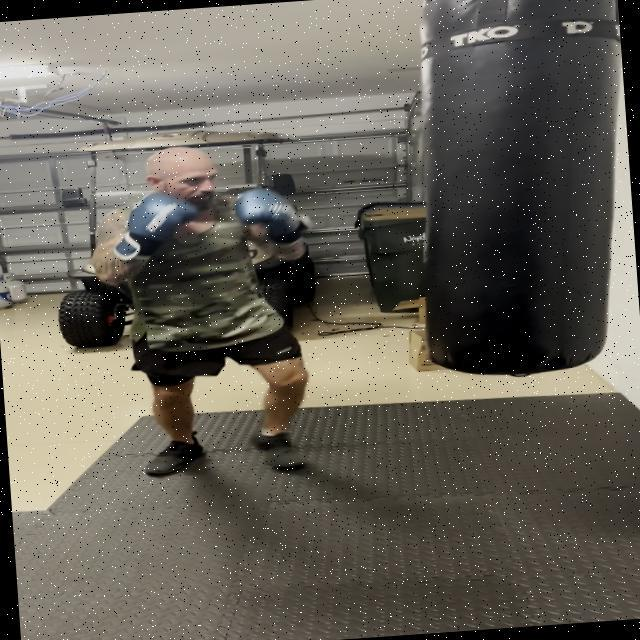bag: (413, 0, 626, 387)
no punch: (78, 133, 316, 294)
